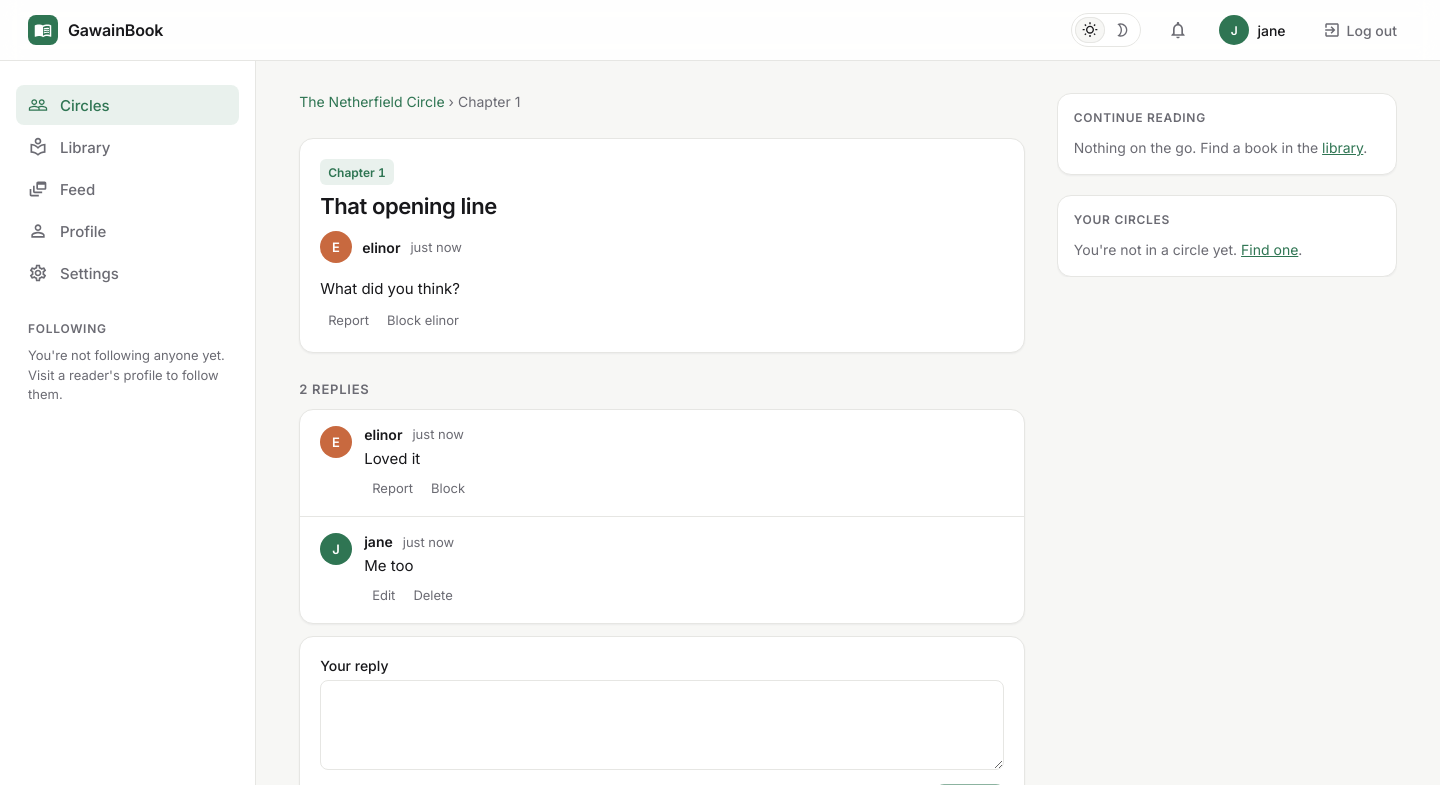
Test: editing › you edit your own reply in place; it's marked edited
The width and height of the screenshot is (1440, 785).
Step 1. Click the button with aria-label "Edit reply by jane" → {"x": 384, "y": 595}, box [364,583,403,607]
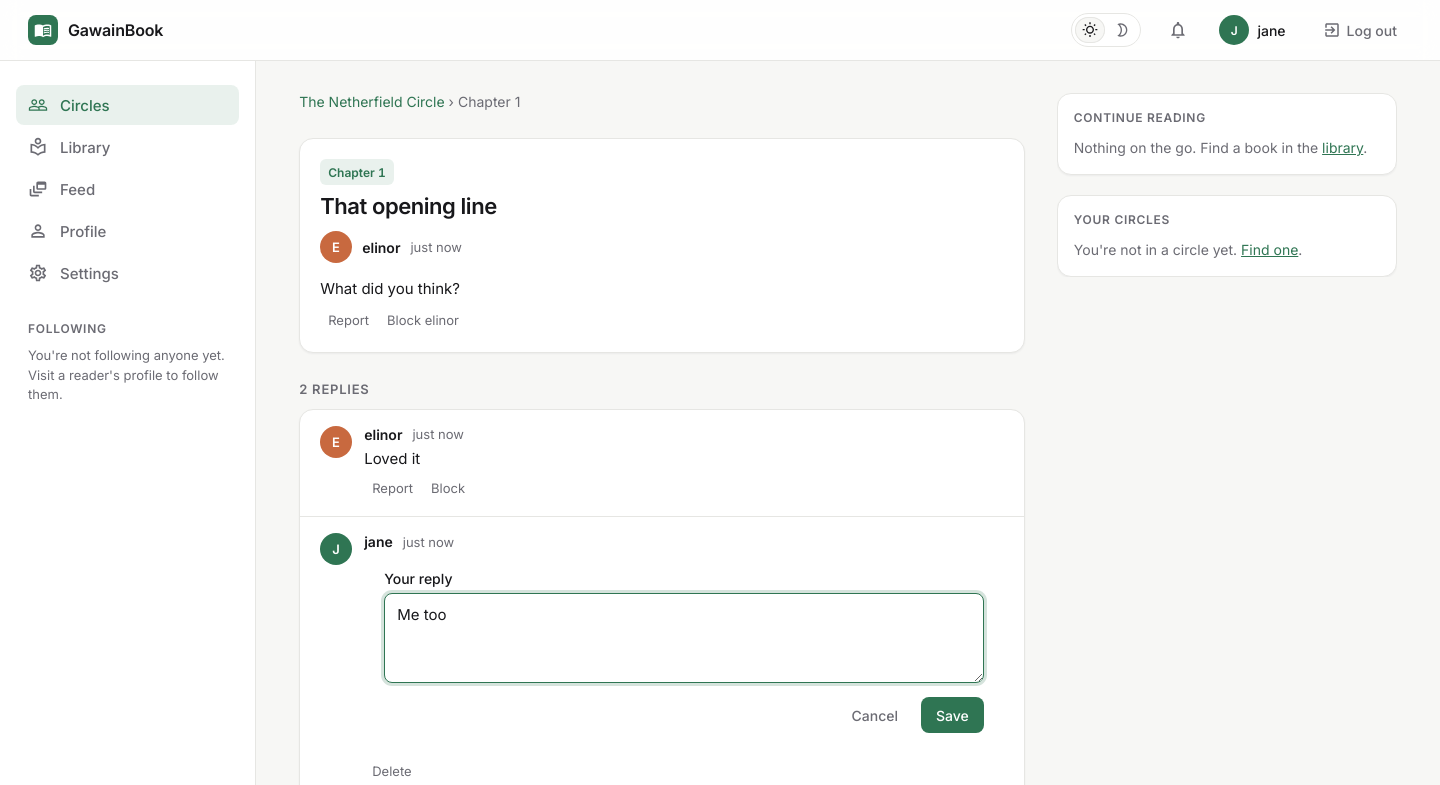
Check: the text box labelled "Your reply" holds "Me too"
Step 2. Replace the text in the text box labelled "Your reply" with "  Me three " → {"x": 684, "y": 638}, box [384,593,984,683]
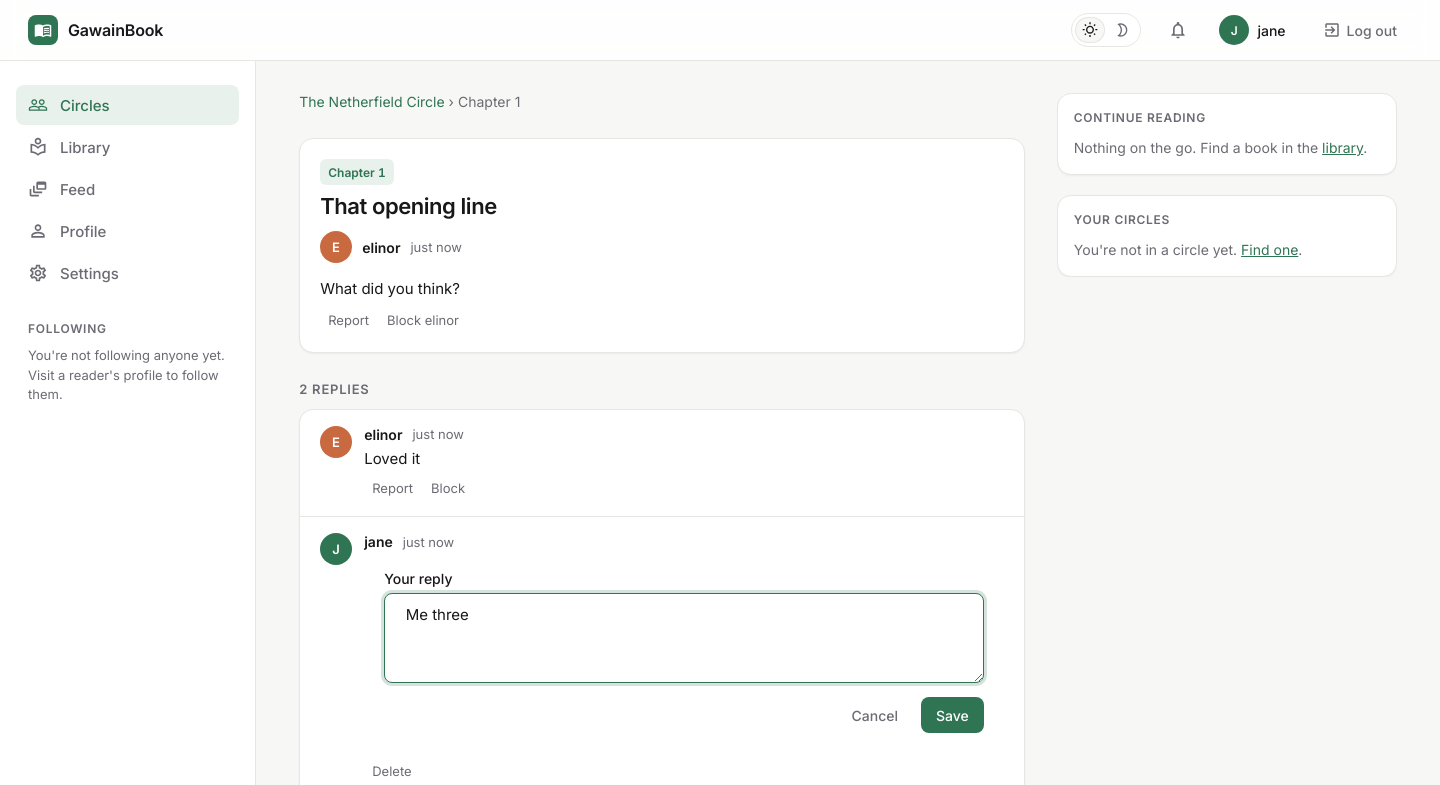
Step 3. Click the button "Save" → {"x": 952, "y": 715}, box [921,697,984,733]
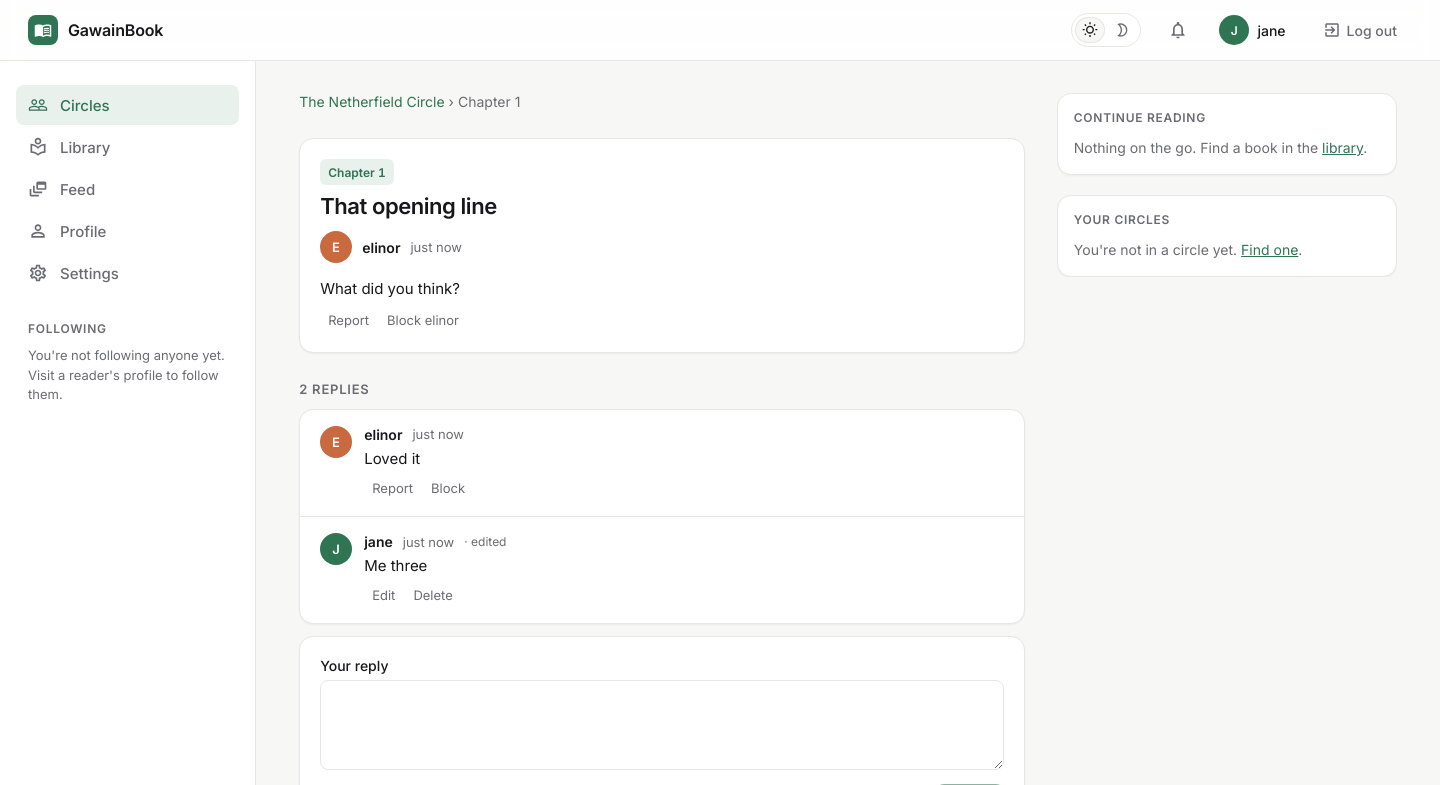
Check: the text "Me three" is shown, box [364,556,427,575]
Check: the text "· edited" is shown once, box [464,534,506,549]
